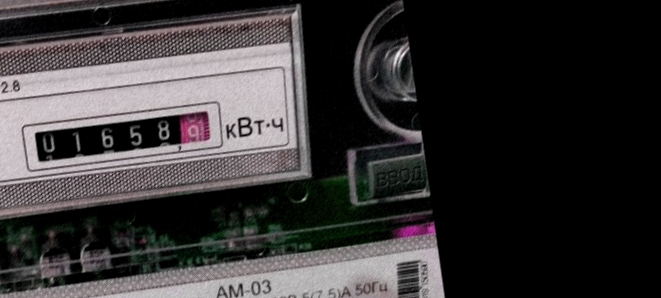0: (41, 130, 57, 154)
1: (71, 130, 84, 153)
5: (127, 122, 144, 147)
6: (99, 125, 115, 149)
8: (155, 117, 172, 141)
9: (184, 122, 201, 145)
screen: (15, 91, 233, 180)
